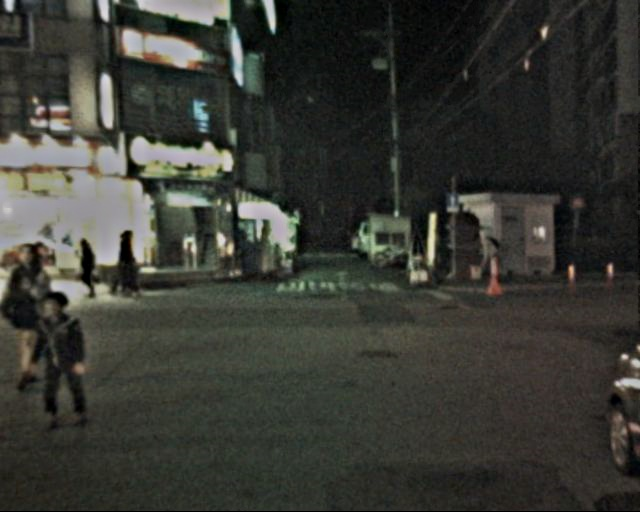person: (0, 233, 72, 382), (34, 284, 102, 424), (115, 224, 145, 299), (75, 231, 105, 296), (475, 228, 498, 286)
